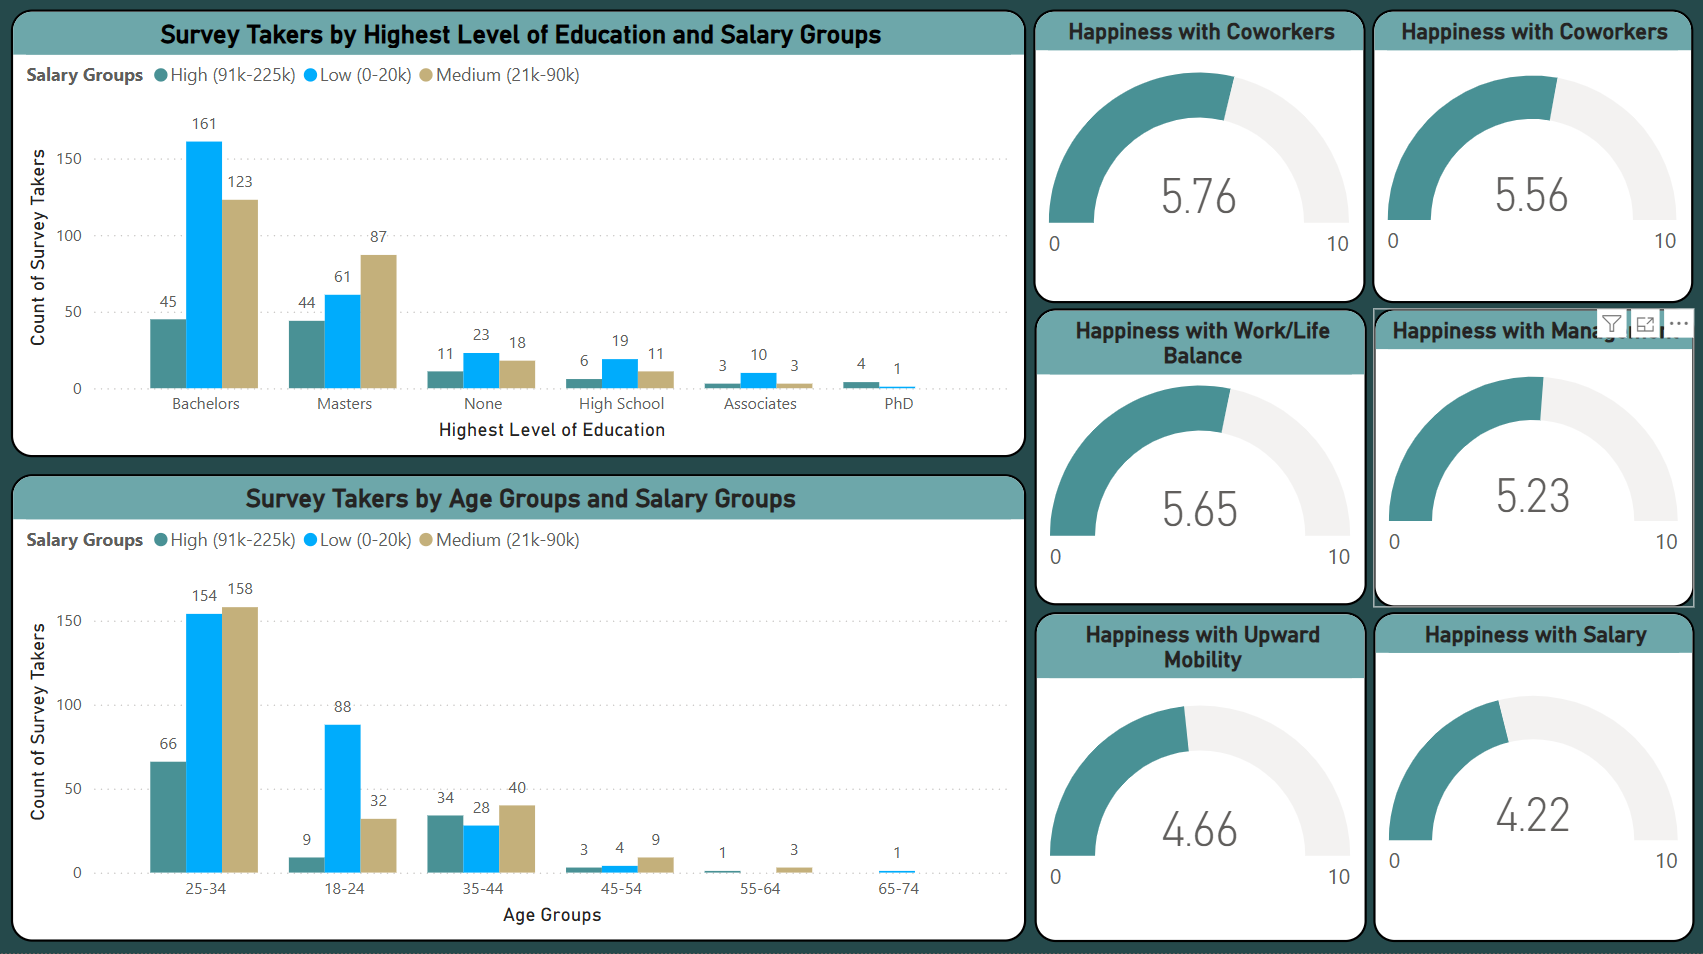

What the dashboard file says about the page in this screenshot:
{"tool":"powerbi","page":{"name":"Demographics & Job Satisfaction","canvas":[1280,720],"ordinal":2},"visuals":[{"type":"clusteredColumnChart","title":"Survey Takers by Age Groups and Salary Groups","fields":{"Category":["Data Professional Survey.Age Groups"],"Y":["CountNonNull(Data Professional Survey.Survey Takers)"],"Series":["Data Professional Survey.Salary Groups"]},"box":[7.8,359.9,763.1,351],"z":0},{"type":"clusteredColumnChart","title":"Survey Takers by Highest Level of Education and Salary Groups","fields":{"Category":["Data Professional Survey.Highest Level of Education"],"Y":["CountNonNull(Data Professional Survey.Survey Takers)"],"Series":["Data Professional Survey.Salary Groups"]},"box":[7.8,11.1,763.1,336.6],"z":1000},{"type":"gauge","title":"Happiness with Coworkers","fields":{"Y":["Avg(Data Professional Survey.Happiness with Coworkers)"],"MinValue":["Min(Data Professional Survey.Happiness with Coworkers)"],"MaxValue":["Max(Data Professional Survey.Happiness with Coworkers)"]},"box":[776.5,11.1,249.9,221.1],"z":2000},{"type":"gauge","title":"Happiness with Coworkers","fields":{"Y":["Avg(Data Professional Survey.Happiness with Learning New Things)"],"MinValue":["Min(Data Professional Survey.Happiness with Learning New Things)"],"MaxValue":["Max(Data Professional Survey.Happiness with Learning New Things)"]},"box":[1030.8,11.1,241,221.1],"z":3000},{"type":"gauge","title":"Happiness with Work/Life Balance","fields":{"Y":["Avg(Data Professional Survey.Happiness with Work/Life Balance)"],"MinValue":["Min(Data Professional Survey.Happiness with Work/Life Balance)1"],"MaxValue":["Max(Data Professional Survey.Happiness with Work/Life Balance)"]},"box":[777.4,235.8,249.9,223.3],"z":4000},{"type":"gauge","title":"Happiness with Management","fields":{"Y":["Avg(Data Professional Survey.Happiness with Management)"],"MinValue":["Min(Data Professional Survey.Happiness with Management)"],"MaxValue":["Max(Data Professional Survey.Happiness with Management)"]},"box":[1031.8,235.8,241,224.4],"z":5000},{"type":"gauge","title":"Happiness with Upward Mobility","fields":{"Y":["Avg(Data Professional Survey.Happiness with Upward Mobility)"],"MinValue":["Min(Data Professional Survey.Happiness with Upward Mobility)"],"MaxValue":["Max(Data Professional Survey.Happiness with Upward Mobility)"]},"box":[777.6,463.2,249.9,247.7],"z":6000},{"type":"gauge","title":"Happiness with Salary","fields":{"Y":["Avg(Data Professional Survey.Happiness with Salary)"],"MinValue":["Min(Data Professional Survey.Happiness with Salary)"],"MaxValue":["Max(Data Professional Survey.Happiness with Salary)"]},"box":[1032,463.2,241,247.7],"z":7000}]}

Visuals, with their boxes in screenshot pixels (x1, y1, x2, y2), scaled from the page's 1280x720 canvas onto the 1703x954 screenshot:
"Survey Takers by Age Groups and Salary Groups" clusteredColumnChart: rect(10, 477, 1026, 942)
"Survey Takers by Highest Level of Education and Salary Groups" clusteredColumnChart: rect(10, 15, 1026, 461)
"Happiness with Coworkers" gauge: rect(1033, 15, 1366, 308)
"Happiness with Coworkers" gauge: rect(1371, 15, 1692, 308)
"Happiness with Work/Life Balance" gauge: rect(1034, 312, 1367, 608)
"Happiness with Management" gauge: rect(1373, 312, 1693, 610)
"Happiness with Upward Mobility" gauge: rect(1035, 614, 1367, 942)
"Happiness with Salary" gauge: rect(1373, 614, 1694, 942)
